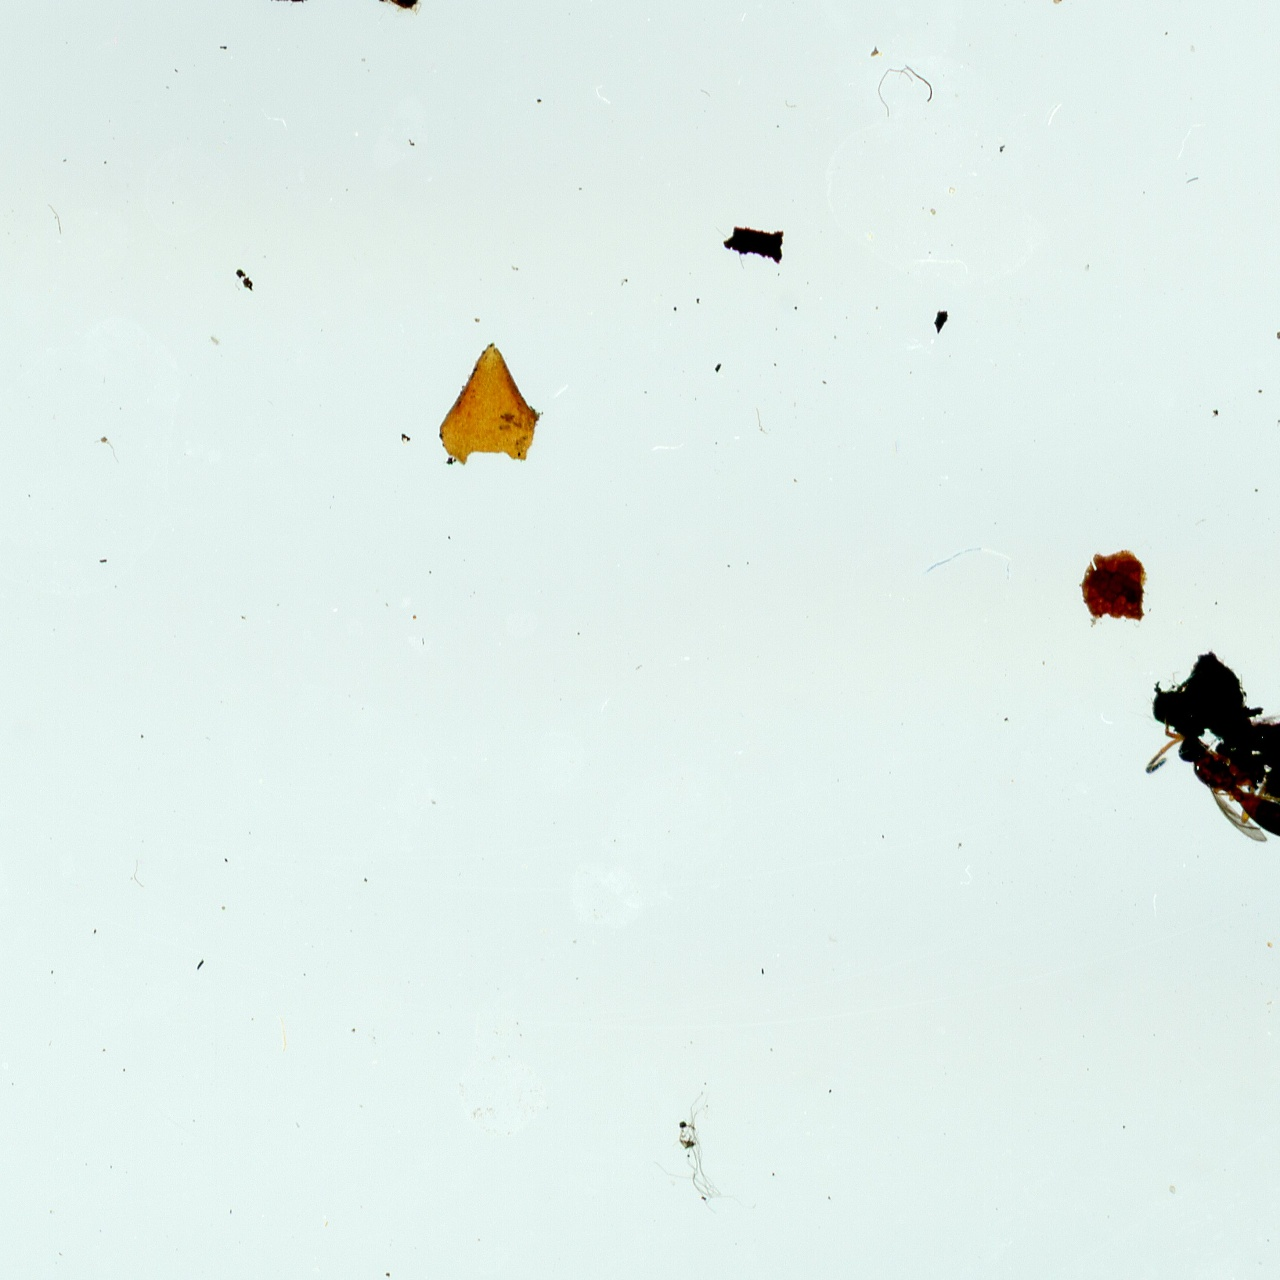arthropod: (1136, 711, 1280, 893)
